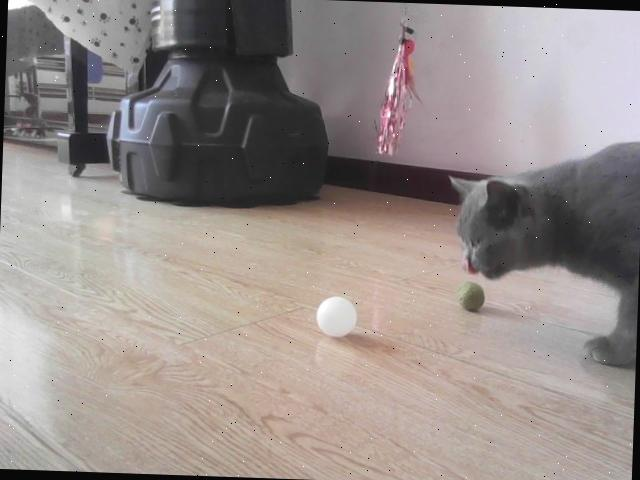ball: (316, 296, 358, 338)
